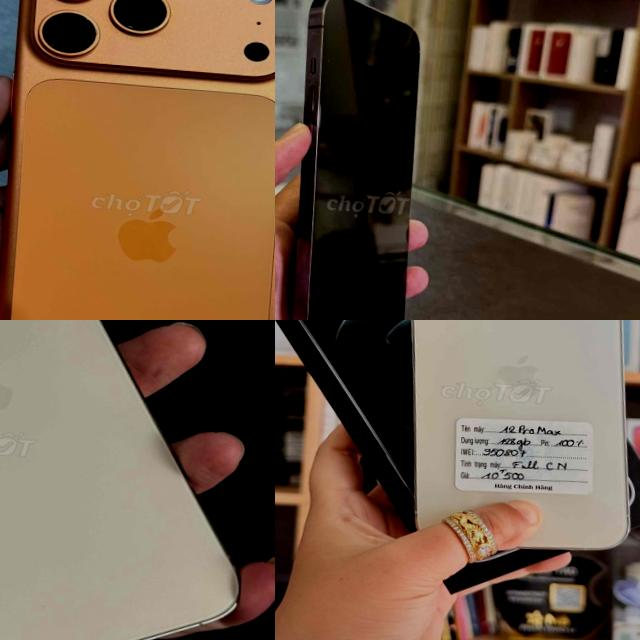gen_12_13: (385, 320, 640, 560)
gen_14: (0, 320, 275, 640), (275, 0, 436, 320)
gen_17: (0, 0, 275, 320)
